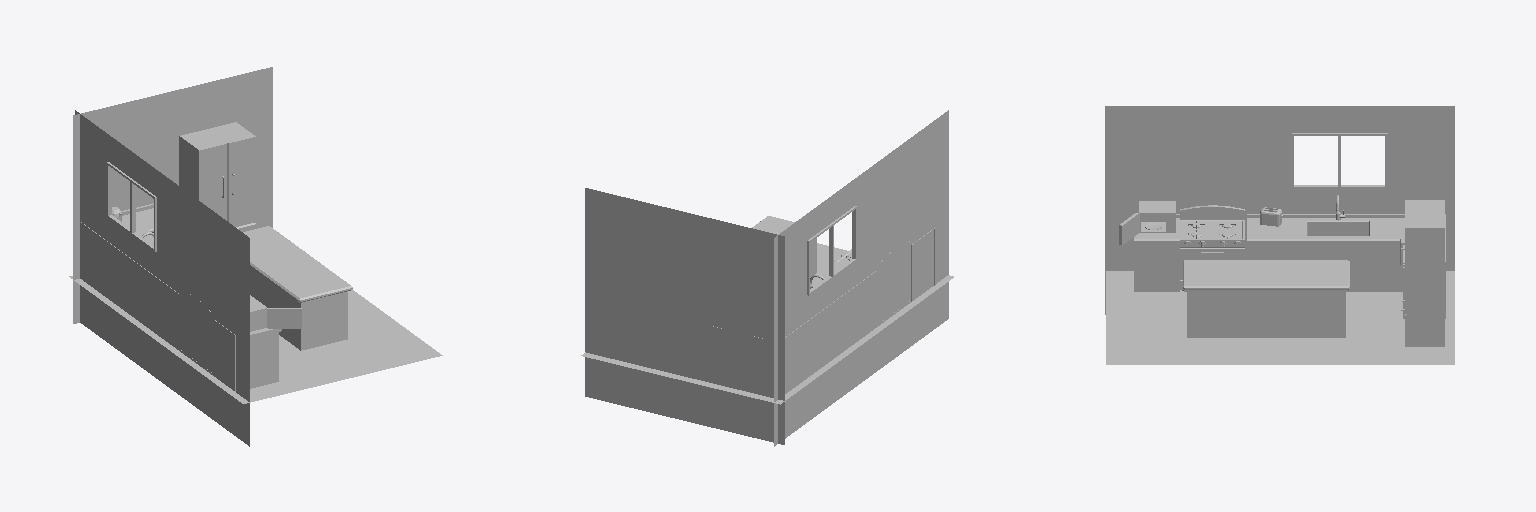
Rendered from kitchenmap7.obj.
The picture shows the model from 3 angles: view 1: azimuth 30°, elevation 25°; view 2: azimuth 150°, elevation 25°; view 3: azimuth 270°, elevation 25°; orthographic projection.
Parts seen in each view (by area): view 1: Left_Wall_Interior, Right_Wall_Interior, Floor, Island, Fridge, Counter_Left, Window_Pane, Counter_Corner, Microwave_Door; view 2: Right_Wall_Interior, Left_Wall_Interior, Floor, Window_Pane, Island; view 3: Left_Wall_Interior, Floor, Island, Counter_Corner, Fridge, Oven, Counter_Left, Window_Pane, Microwave, Sink_Basin.
Part boxes in pixels (left/top/right/bottom): Left_Wall_Interior: left=75, top=110, right=249, bottom=446; Right_Wall_Interior: left=73, top=67, right=272, bottom=323; Floor: left=69, top=276, right=442, bottom=403; Island: left=243, top=226, right=352, bottom=350; Fridge: left=179, top=122, right=255, bottom=231; Counter_Left: left=215, top=320, right=281, bottom=391; Window_Pane: left=107, top=162, right=156, bottom=251; Counter_Corner: left=81, top=203, right=178, bottom=293; Microwave_Door: left=267, top=308, right=301, bottom=328; Right_Wall_Interior: left=585, top=188, right=784, bottom=444; Left_Wall_Interior: left=774, top=110, right=948, bottom=446; Floor: left=581, top=243, right=953, bottom=404; Window_Pane: left=807, top=206, right=856, bottom=295; Island: left=752, top=216, right=816, bottom=277; Left_Wall_Interior: left=1105, top=106, right=1454, bottom=314; Floor: left=1106, top=271, right=1454, bottom=364; Island: left=1183, top=260, right=1349, bottom=337; Counter_Corner: left=1247, top=214, right=1445, bottom=318; Fridge: left=1405, top=200, right=1444, bottom=346; Oven: left=1180, top=205, right=1244, bottom=291; Counter_Left: left=1134, top=214, right=1179, bottom=291; Window_Pane: left=1292, top=133, right=1387, bottom=188; Microwave: left=1139, top=201, right=1175, bottom=232; Sink_Basin: left=1307, top=221, right=1369, bottom=235.
Size of the model in its own units: 56.58 by 56.61 by 85.8.